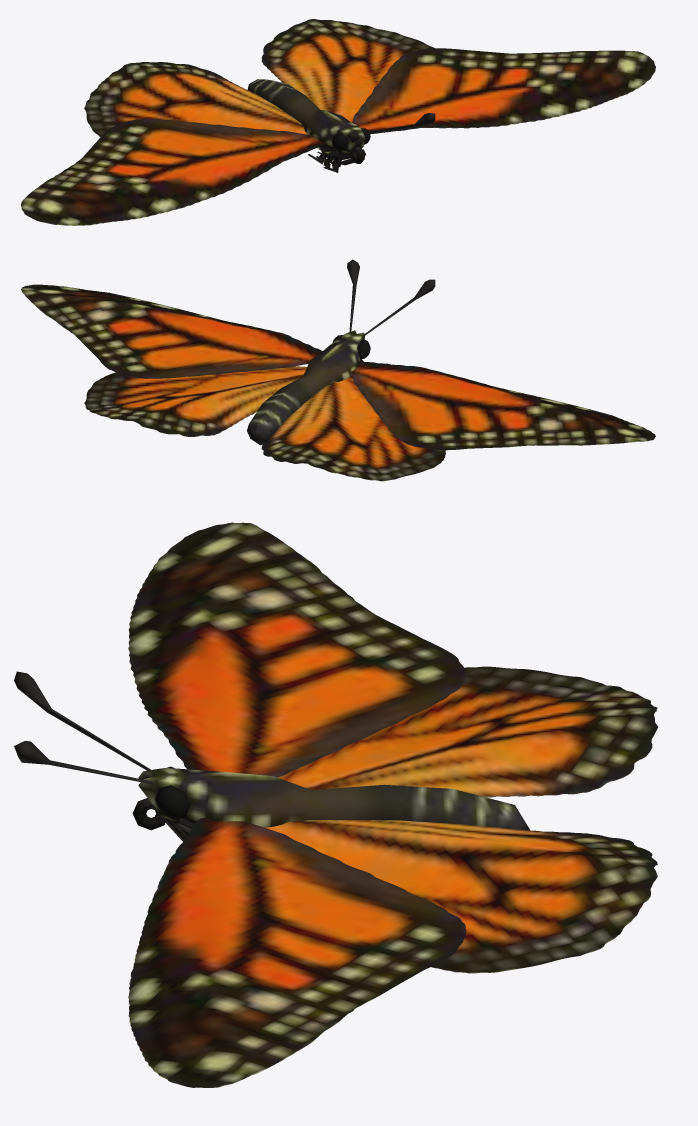
Rendered from monarch-butterfly.glb.
The picture shows the model from 3 angles, top to bottom: view 1: azimuth 30°, elevation 25°; view 2: azimuth 150°, elevation 25°; view 3: azimuth 270°, elevation 25°; orthographic projection. The views are drawn at different scales.
Size of the model in its own units: 6.61 by 0.8731 by 3.14.
Materials: 1 (1 with a texture image).
